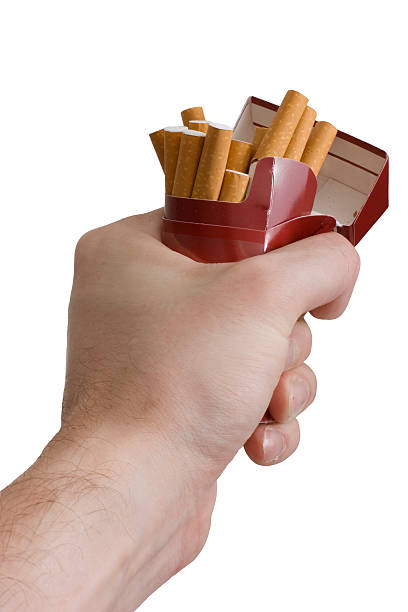cigarette: (159, 94, 390, 263), (251, 88, 308, 165), (191, 120, 233, 201), (171, 128, 207, 199), (304, 117, 338, 177), (283, 105, 317, 162), (163, 124, 188, 198), (220, 166, 251, 201), (226, 136, 255, 173), (148, 126, 165, 178), (180, 105, 207, 132)
